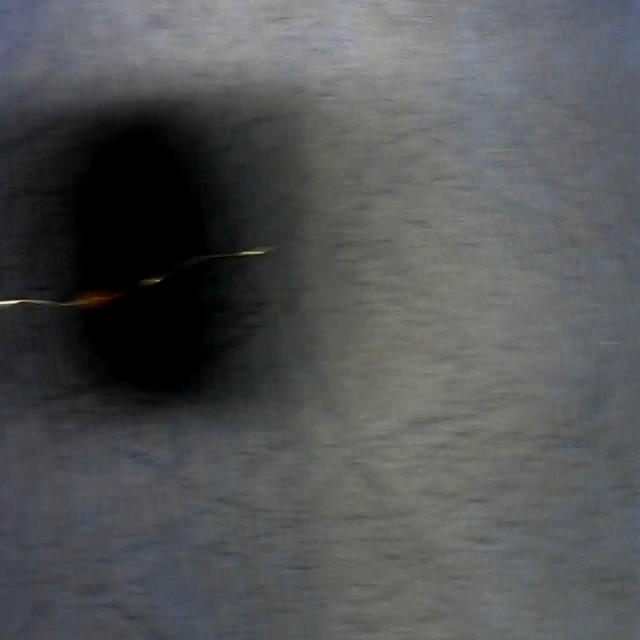resistor: (0, 239, 271, 320)
